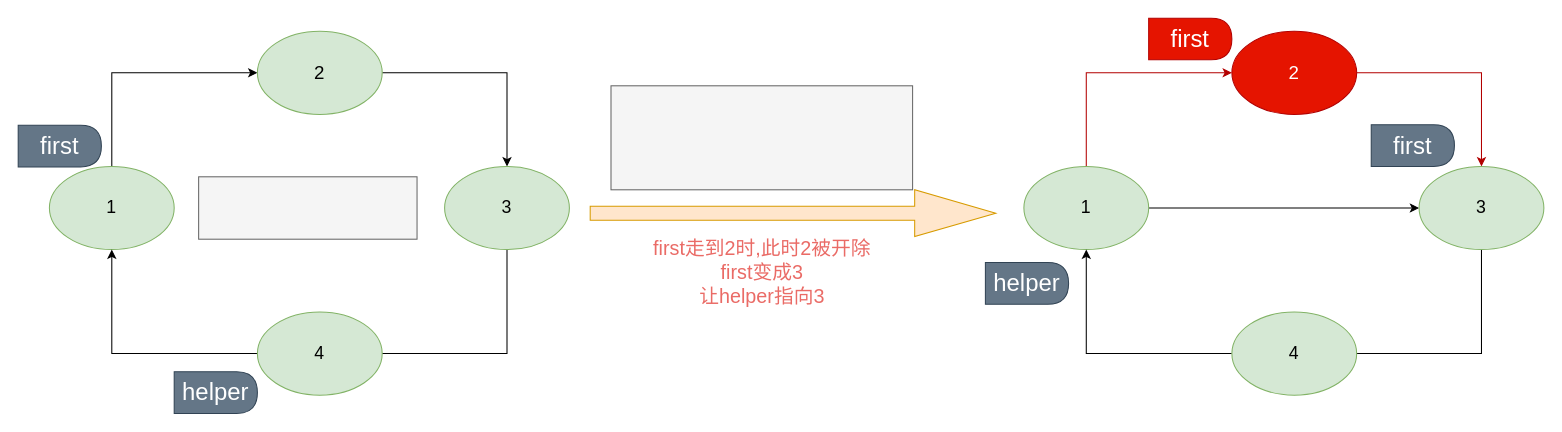
The diagram is 1562 pixels wide and 432 high, and some of its shapes have lost their labels. Each missing label, with the box of its shape:
first：报数指针 helper：末尾指针 开始报数时，first和helper一起走 确保最后helper跟first连接成功: (610, 85, 913, 190)
规则：从1开始报数 报到2的人出去: (198, 176, 417, 239)
